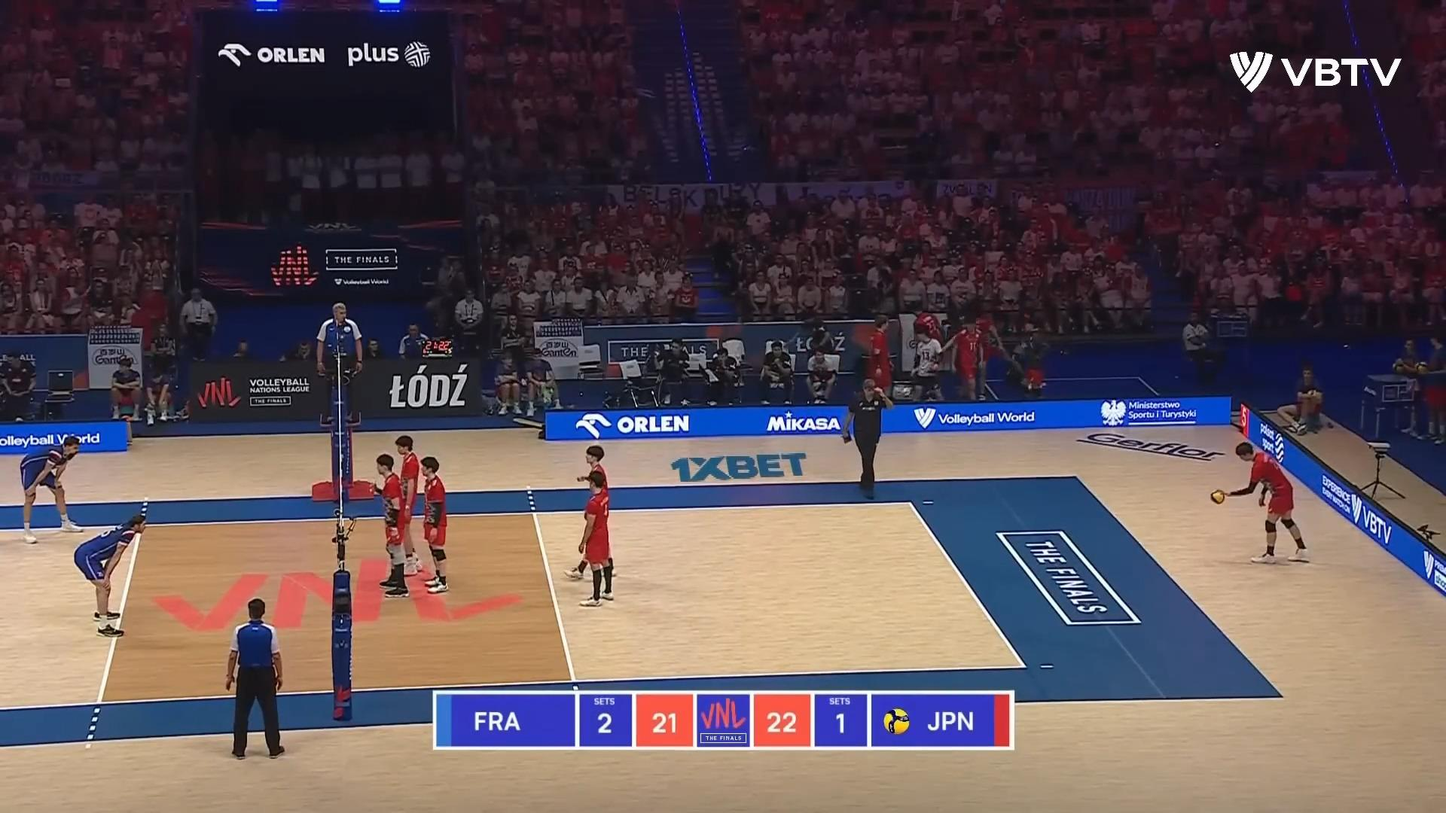ball: (1208, 488, 1228, 506)
